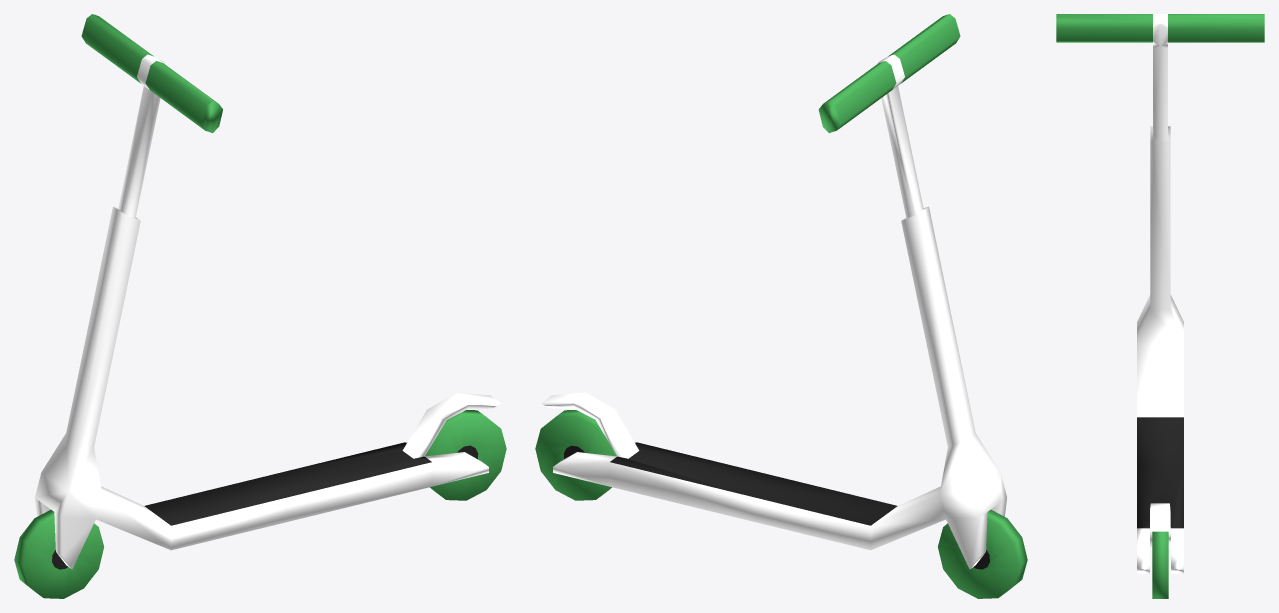
File: ScooterGreen.glb
3 renders of one model, left to right at view 1: azimuth 30°, elevation 25°; view 2: azimuth 150°, elevation 25°; view 3: azimuth 270°, elevation 25°, orthographic. The views are drawn at different scales.
Visible parts, largest first — view 1: ScooterGreen; view 2: ScooterGreen; view 3: ScooterGreen.
Part boxes in pixels (x1=…): ScooterGreen: x1=14, y1=14, x2=506, y2=598; ScooterGreen: x1=535, y1=14, x2=1027, y2=598; ScooterGreen: x1=1056, y1=14, x2=1264, y2=598.
Size of the model in its own units: 1.03 by 1.05 by 0.4408.
Materials: 1 (1 with a texture image).
